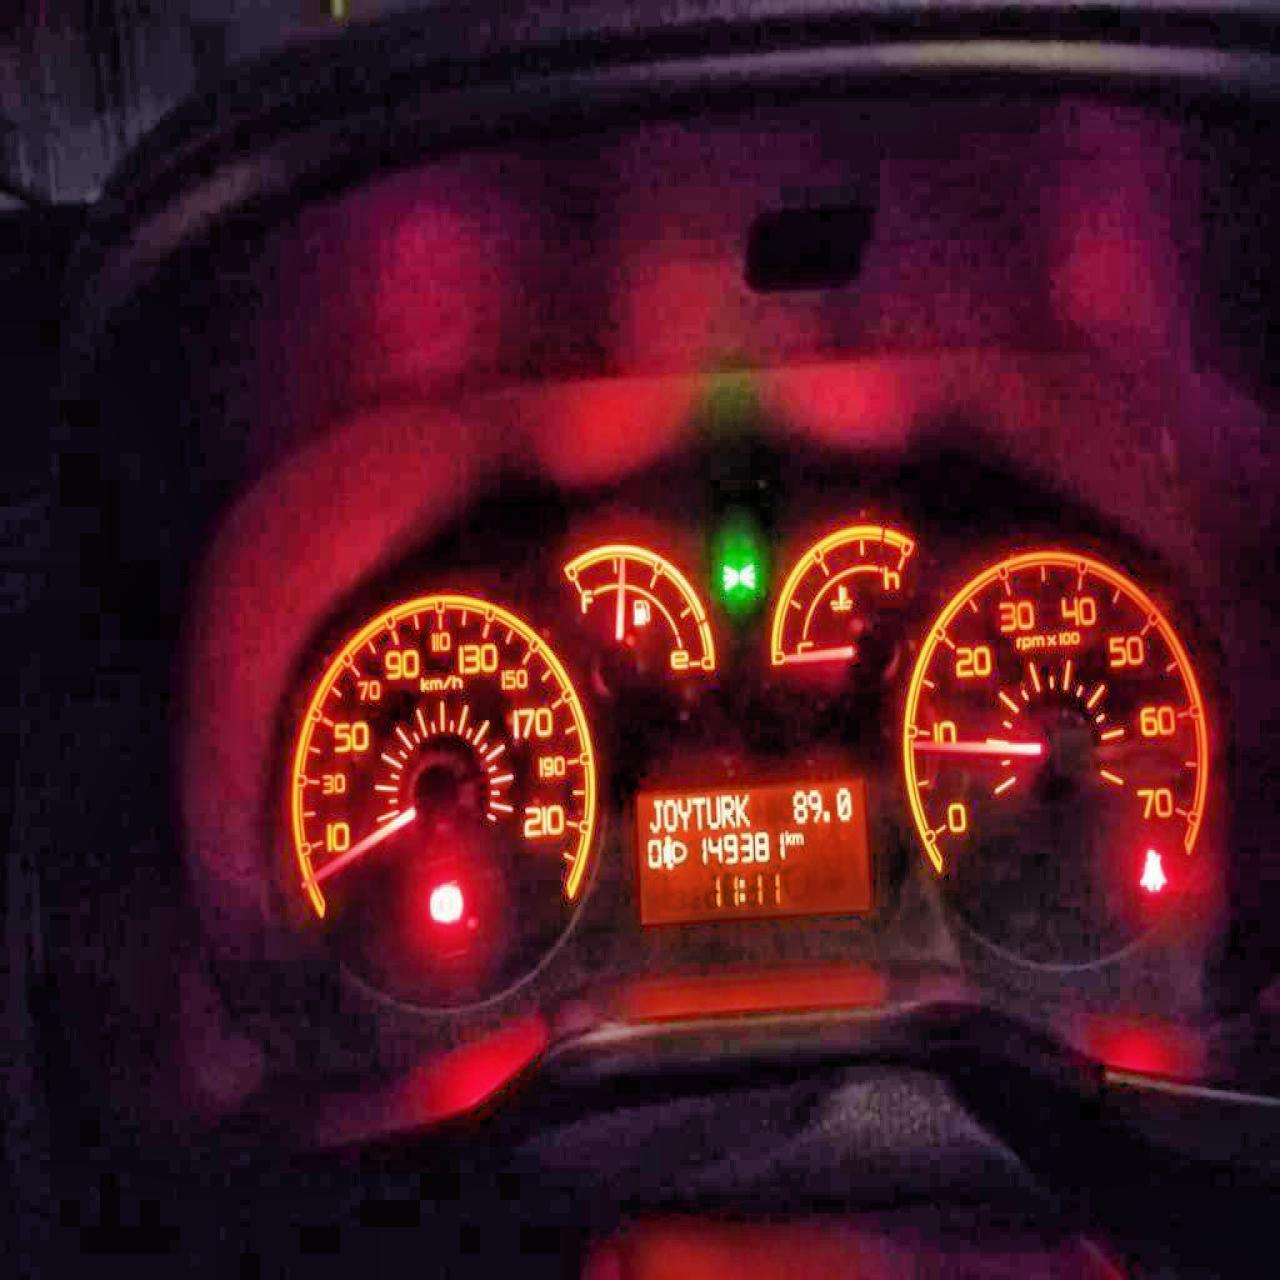-: (821, 808, 829, 822)
0: (835, 785, 851, 820), (646, 837, 662, 868)
1: (731, 873, 739, 907), (772, 870, 780, 902), (755, 872, 763, 903), (712, 875, 720, 905), (777, 830, 785, 858), (700, 835, 706, 863)
3: (738, 830, 754, 862)
4: (706, 833, 722, 862)
8: (790, 788, 808, 824), (754, 830, 770, 862)
9: (808, 787, 822, 823), (722, 832, 738, 863)
X: (676, 795, 692, 832), (662, 796, 678, 832), (705, 793, 720, 830), (734, 792, 750, 826), (690, 795, 705, 830), (720, 794, 735, 828), (648, 798, 662, 834), (737, 878, 745, 902), (792, 832, 802, 845), (784, 828, 790, 845)
odometer: (634, 774, 871, 928)
